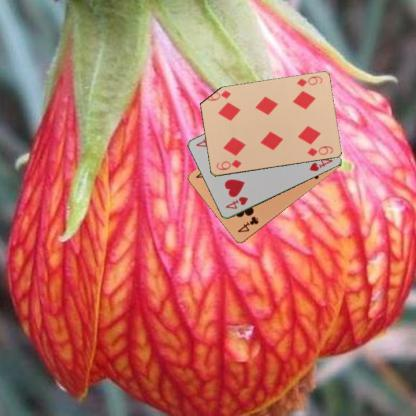4c: (235, 214, 260, 234)
4h: (222, 194, 249, 210)
6d: (214, 157, 243, 172), (294, 74, 324, 88)
